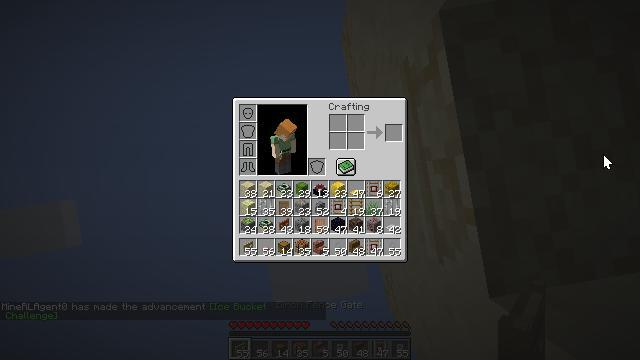cursor: (603, 154, 613, 170)
